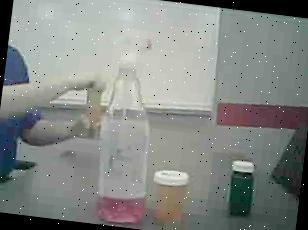Bottle A: (76, 75, 107, 130)
Bottle B: (148, 165, 192, 225)
Bottle C: (220, 148, 262, 220)
hazard: (94, 27, 167, 228)
